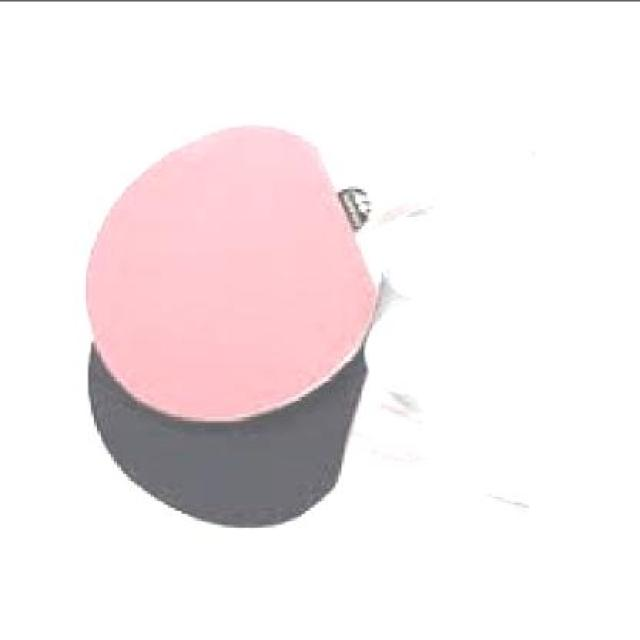table_tennis_racket: (85, 102, 387, 418), (82, 330, 370, 552)
